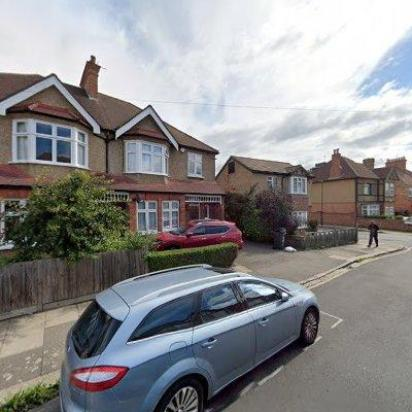stationary-car-offstreet: (146, 217, 244, 252)
stationary-car-onstreet: (59, 260, 321, 412)
